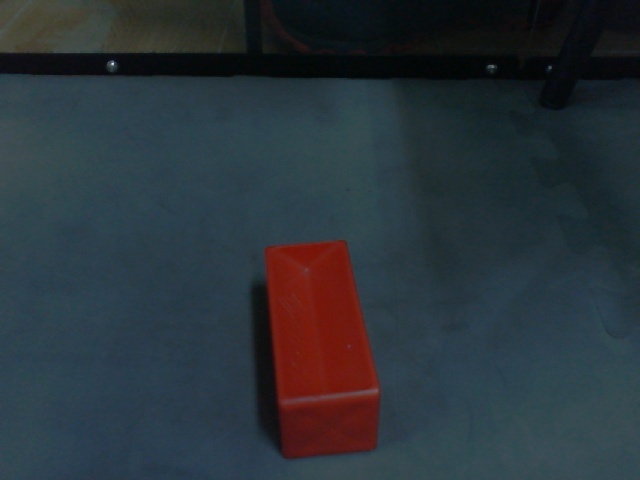RedSample: (262, 237, 383, 461)
